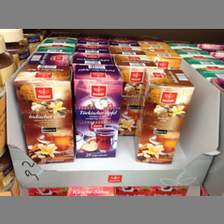tea: (13, 63, 75, 166), (133, 68, 194, 165), (73, 64, 122, 159)
